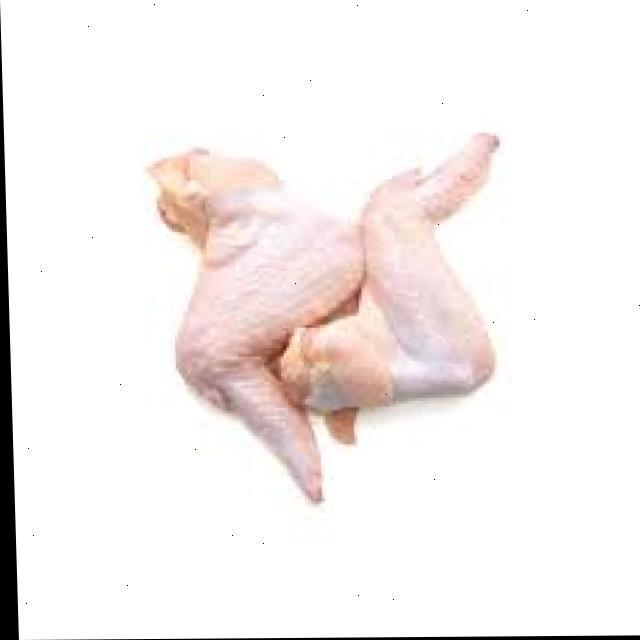wing: (144, 140, 373, 480), (286, 119, 512, 428)
